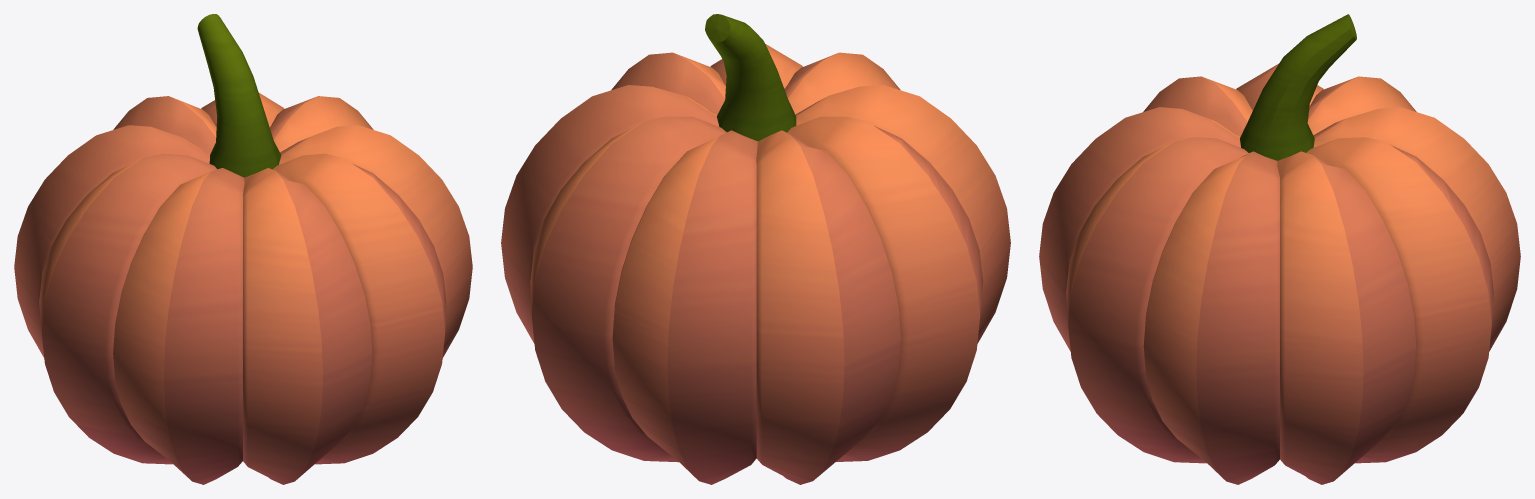
The model's file is Pumpkin.fbx.
3 renders of one model, left to right at view 1: azimuth 30°, elevation 25°; view 2: azimuth 150°, elevation 25°; view 3: azimuth 270°, elevation 25°, orthographic. The views are drawn at different scales.
Visible parts, largest first — view 1: Pumpkin; view 2: Pumpkin; view 3: Pumpkin.
Part boxes in pixels (x1,y1,x2,y2): Pumpkin: [14, 14, 472, 484]; Pumpkin: [501, 14, 1010, 484]; Pumpkin: [1039, 14, 1520, 484].
Bounding box in the file's own units: 2.18 × 2.18 × 2.22.
